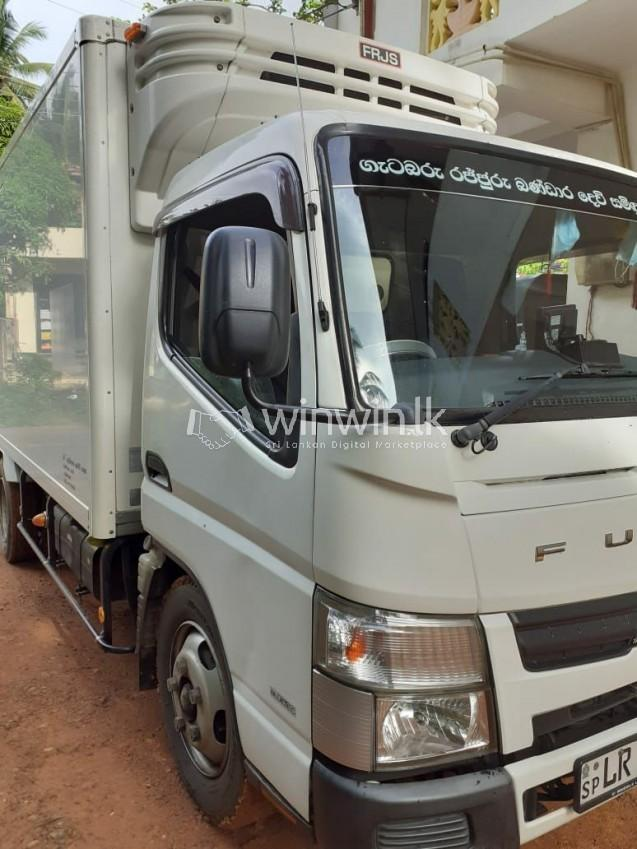truck: (1, 1, 637, 849)
